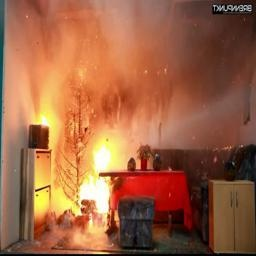fire: (42, 115, 120, 223)
